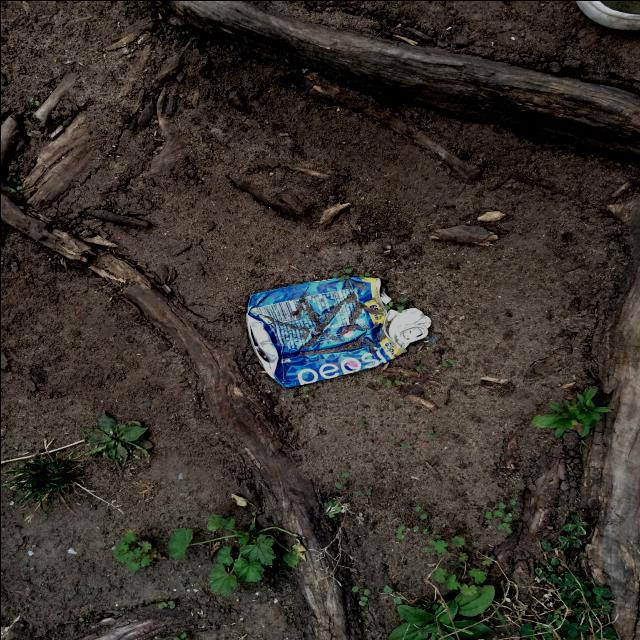Drink can: (245, 276, 431, 388)
Pop tab: (395, 323, 428, 342)
